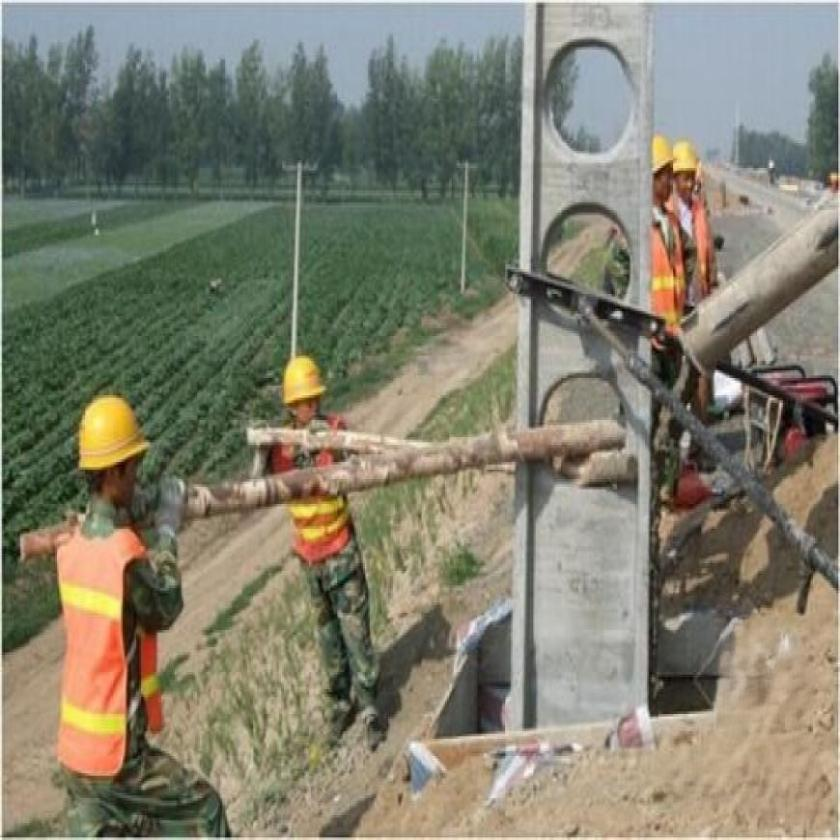Con_casco: (74, 391, 155, 523), (279, 351, 329, 437)
